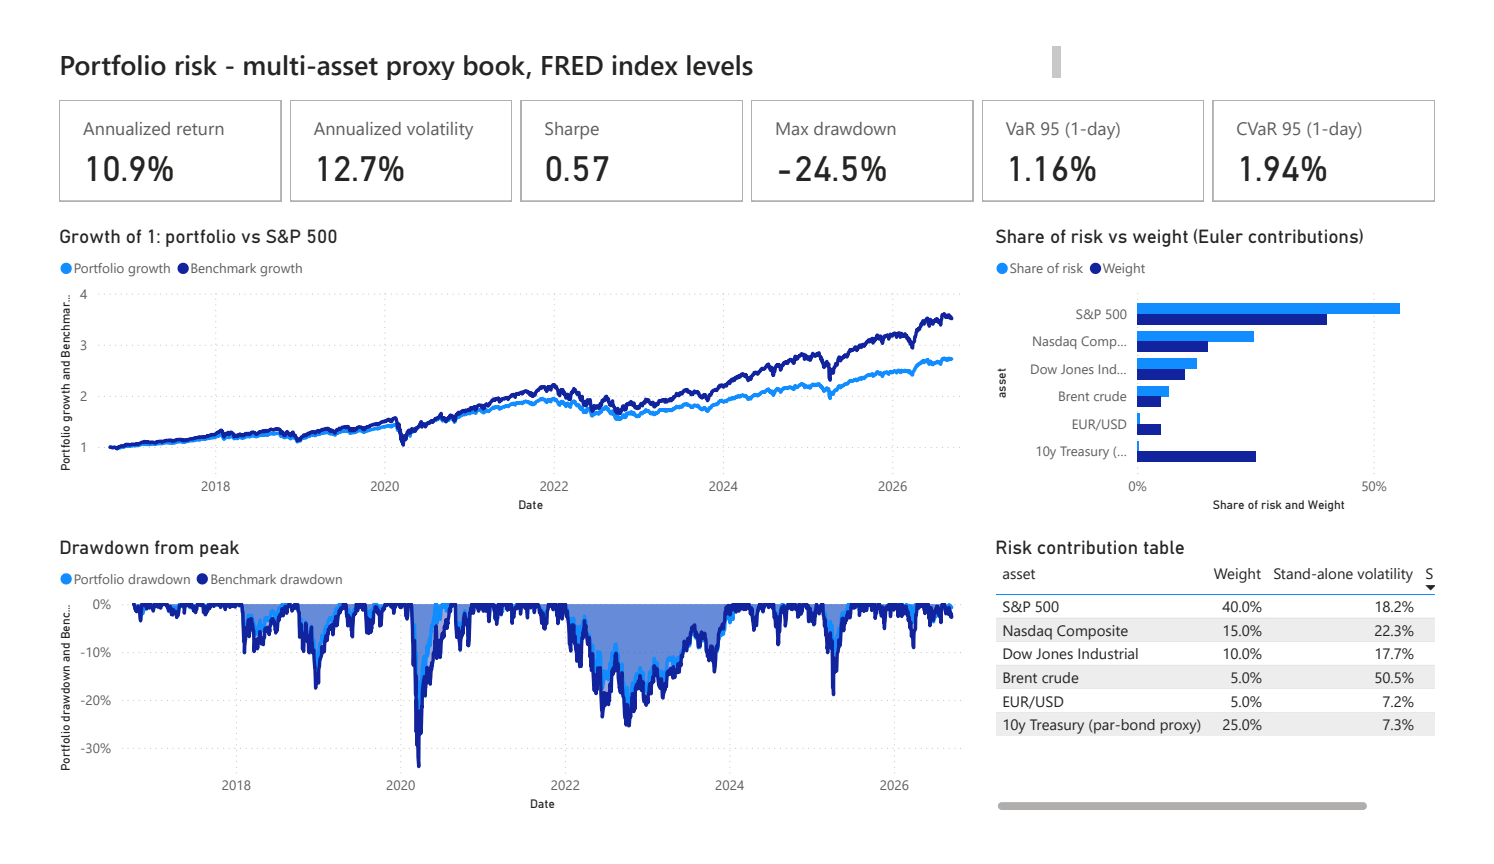

The page's visual inventory and layout, read from the dashboard file:
{"tool":"powerbi","page":{"name":"Portfolio risk","canvas":[1280,720],"ordinal":2},"visuals":[{"type":"textbox","box":[24,12,900,40],"z":0},{"type":"cardVisual","fields":{"Data":["_Measures.Annualized return","_Measures.Annualized volatility","_Measures.Sharpe","_Measures.Max drawdown","_Measures.VaR 95 (1-day)","_Measures.CVaR 95 (1-day)"]},"box":[24,60,1232,100],"z":1000},{"type":"lineChart","title":"Growth of 1: portfolio vs S&P 500","fields":{"Category":["dim_date.Date"],"Y":["_Measures.Portfolio growth","_Measures.Benchmark growth"]},"box":[24,176,816,260],"z":1000},{"type":"clusteredBarChart","title":"Share of risk vs weight (Euler contributions)","fields":{"Category":["risk_contributions.asset"],"Y":["_Measures.Share of risk","_Measures.Weight"]},"box":[856,176,400,260],"z":1000},{"type":"areaChart","title":"Drawdown from peak","fields":{"Category":["dim_date.Date"],"Y":["_Measures.Portfolio drawdown","_Measures.Benchmark drawdown"]},"box":[24,452,816,250],"z":1000},{"type":"tableEx","title":"Risk contribution table","fields":{"Values":["risk_contributions.asset","_Measures.Weight","_Measures.Stand-alone volatility","_Measures.Share of risk"]},"box":[856,452,400,250],"z":1000}]}

Visuals, with their boxes in screenshot pixels (x1, y1, x2, y2), scaled from the page's 1280x720 canvas onto the 1494x864 screenshot:
textbox: select_region(28, 14, 1078, 62)
cardVisual - _Measures.Annualized return x _Measures.Annualized volatility: select_region(28, 72, 1466, 192)
"Growth of 1: portfolio vs S&P 500" lineChart: select_region(28, 211, 980, 523)
"Share of risk vs weight (Euler contributions)" clusteredBarChart: select_region(999, 211, 1466, 523)
"Drawdown from peak" areaChart: select_region(28, 542, 980, 842)
"Risk contribution table" tableEx: select_region(999, 542, 1466, 842)
